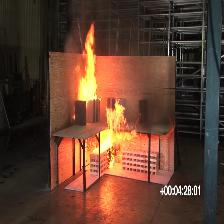fire: (76, 23, 98, 102), (102, 104, 128, 156)
